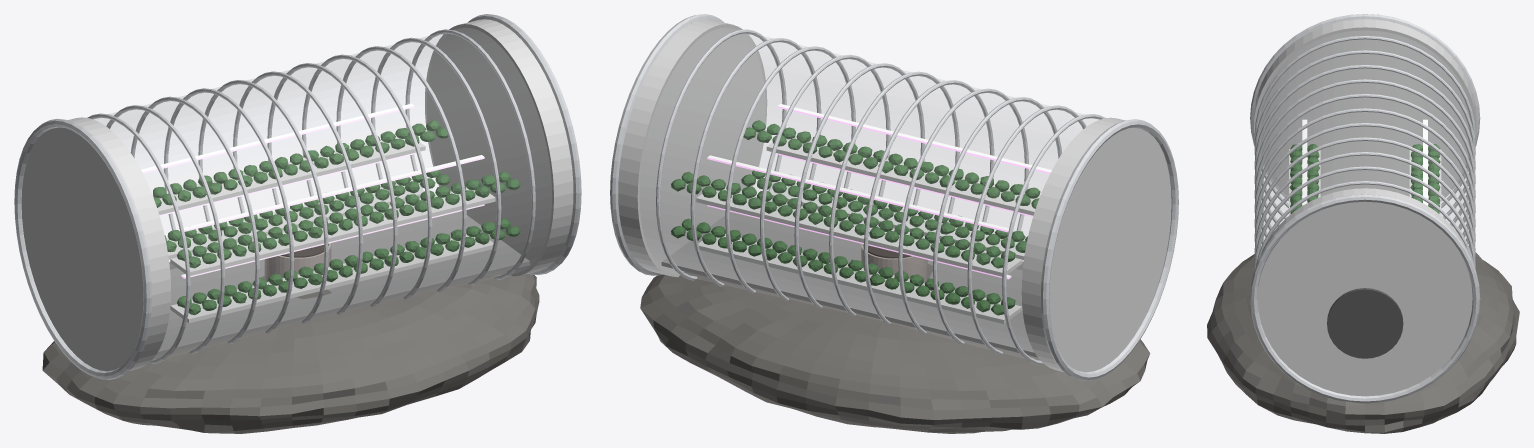
File: greenhouse.glb
3 views of the same model, side by side, from view 1: azimuth 30°, elevation 25°; view 2: azimuth 150°, elevation 25°; view 3: azimuth 270°, elevation 25° (orthographic). The views are drawn at different scales.
Visible parts, largest first — view 1: membrane, berm, cap-1, cap1, deck, greens-11, greens-10, capring-1, greens11, greens10, tray-11, tray-10 (+18 smaller); view 2: membrane, berm, cap-1, cap1, deck, greens11, greens10, capring-1, greens-11, greens-10, tray11, tray10 (+18 smaller); view 3: cap1, membrane, cap-1, berm, capring1, hatch, capring-1, rib0, rib1, rib2, rib3, rib4 (+10 smaller).
Boxes of the visible parts, left/top/right/bottom form: membrane: left=91, top=28, right=551, bottom=361; berm: left=42, top=262, right=539, bottom=433; cap-1: left=21, top=117, right=170, bottom=371; cap1: left=425, top=19, right=573, bottom=276; deck: left=155, top=211, right=529, bottom=356; greens-11: left=177, top=171, right=520, bottom=268; greens-10: left=177, top=218, right=520, bottom=315; capring-1: left=14, top=118, right=151, bottom=379; greens11: left=153, top=120, right=448, bottom=207; greens10: left=164, top=170, right=450, bottom=252; tray-11: left=170, top=187, right=495, bottom=275; tray-10: left=170, top=234, right=493, bottom=322; membrane: left=640, top=28, right=1099, bottom=362; berm: left=640, top=261, right=1150, bottom=433; cap-1: left=1021, top=117, right=1171, bottom=372; cap1: left=618, top=19, right=767, bottom=277; deck: left=661, top=212, right=1037, bottom=357; greens11: left=671, top=171, right=1015, bottom=268; greens10: left=671, top=218, right=1015, bottom=315; capring-1: left=1041, top=119, right=1178, bottom=380; greens-11: left=743, top=120, right=1040, bottom=208; greens-10: left=741, top=170, right=1027, bottom=252; tray11: left=696, top=187, right=1022, bottom=276; tray10: left=698, top=234, right=1022, bottom=323; cap1: left=1257, top=188, right=1472, bottom=396; membrane: left=1259, top=31, right=1471, bottom=252; cap-1: left=1254, top=19, right=1476, bottom=201; berm: left=1207, top=252, right=1519, bottom=433; capring1: left=1250, top=194, right=1480, bottom=403; hatch: left=1327, top=288, right=1403, bottom=358; capring-1: left=1250, top=14, right=1480, bottom=146; rib0: left=1254, top=36, right=1475, bottom=208; rib1: left=1254, top=50, right=1475, bottom=219; rib2: left=1254, top=65, right=1475, bottom=226; rib3: left=1254, top=79, right=1475, bottom=232; rib4: left=1254, top=94, right=1475, bottom=237.
Bounding box in the file's own units: 7.23 × 4.63 × 4.92.
Materials: 3 (3 with a texture image).
